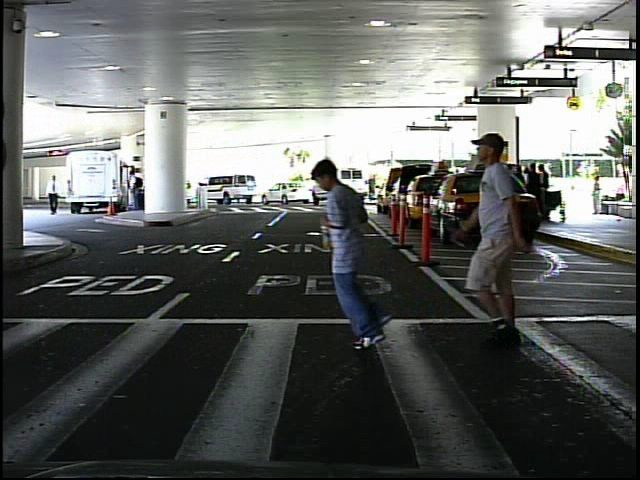person: (454, 124, 562, 356), (319, 154, 434, 354), (588, 172, 607, 218), (45, 172, 64, 217), (366, 172, 381, 202)
